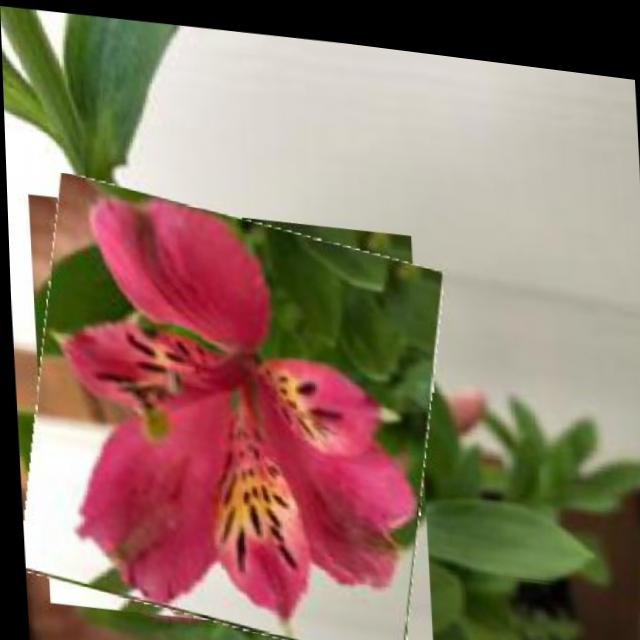Flower: (11, 172, 446, 640)
